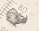microplastic: (6, 8, 28, 27)
